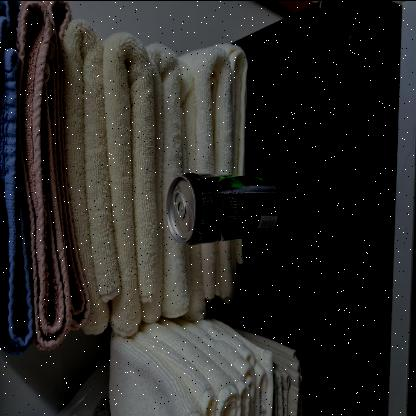Can: (166, 172, 286, 244)
